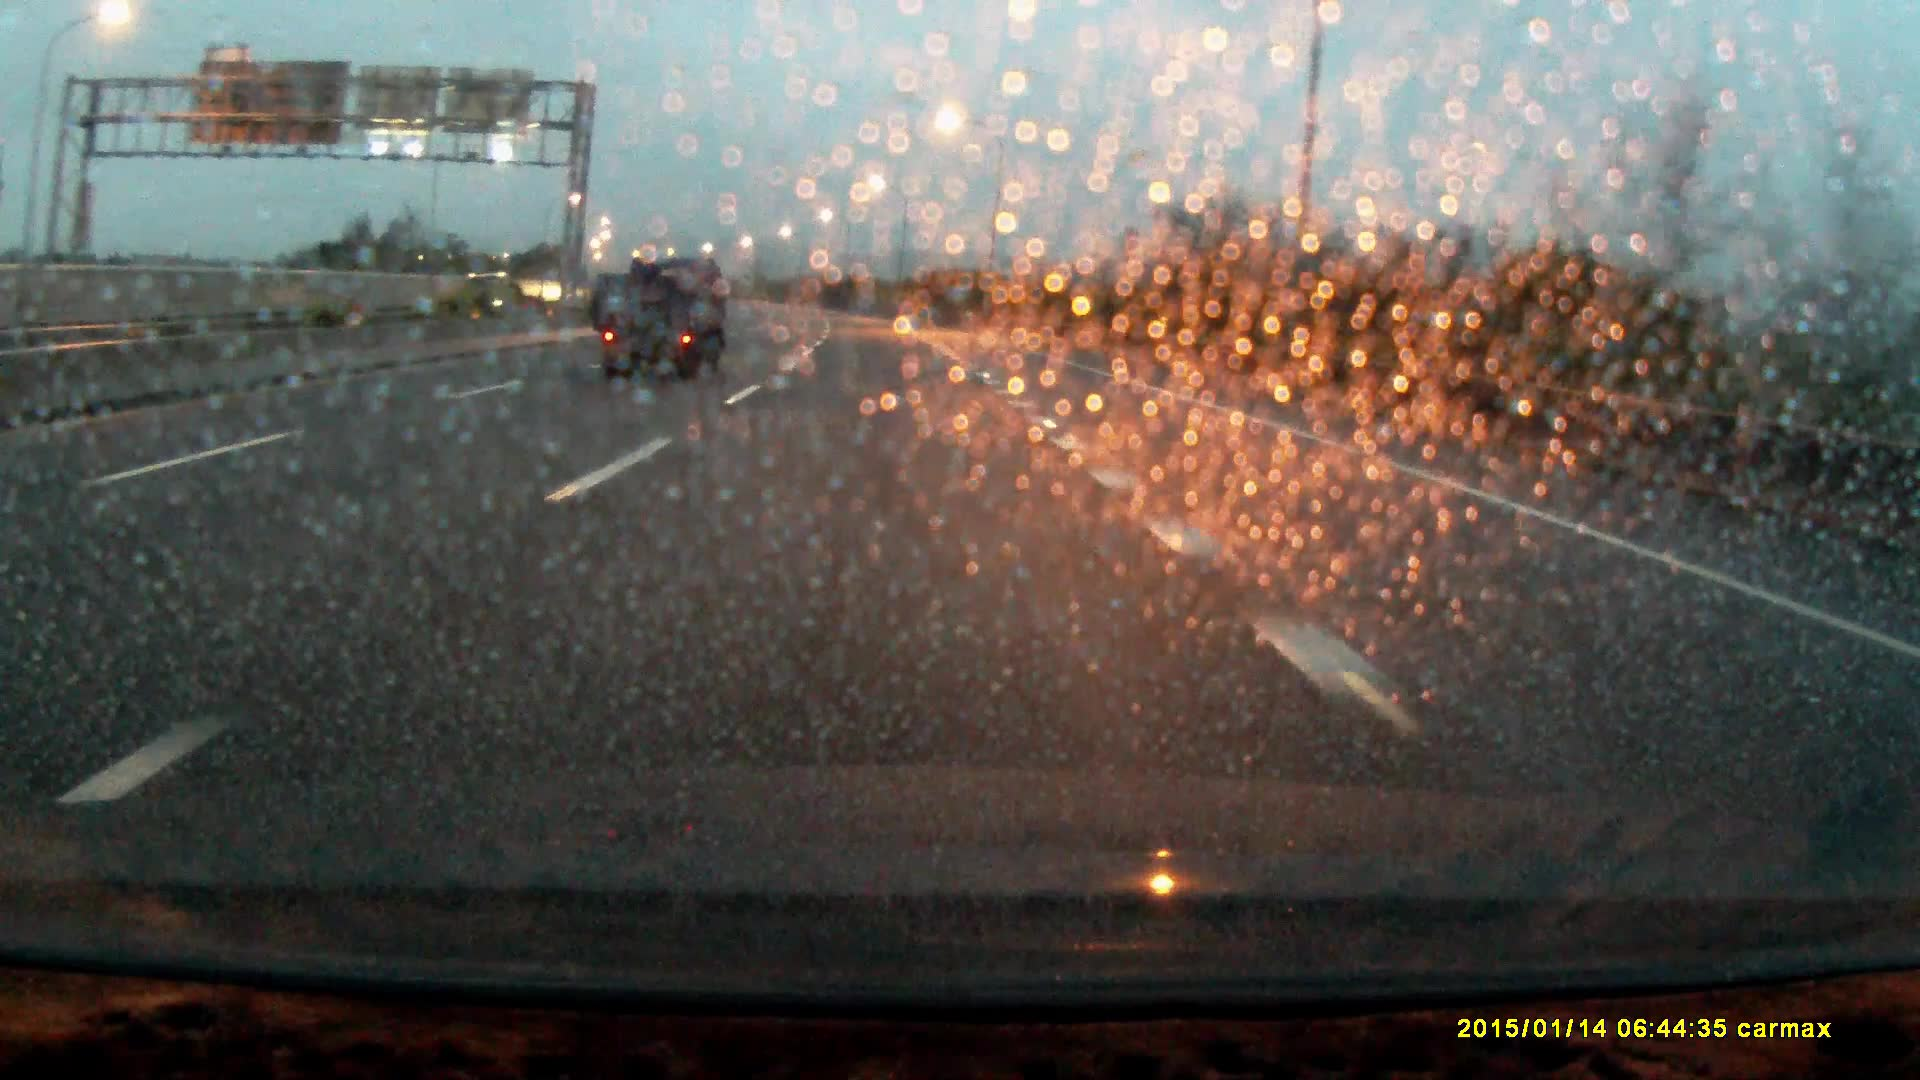vehicle: (597, 255, 732, 378), (465, 270, 556, 309)
